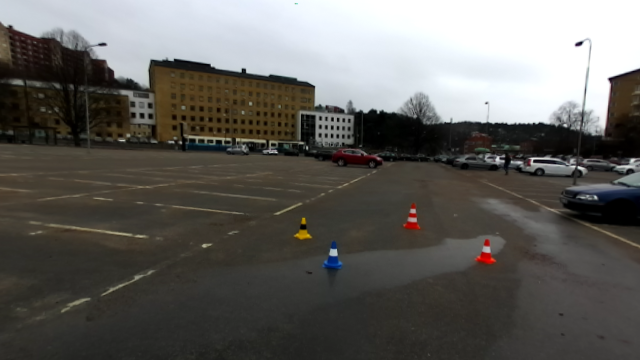blue: (321, 240, 346, 270)
orange: (474, 236, 497, 267)
orange2: (401, 200, 423, 230)
yellow: (293, 217, 311, 242)
